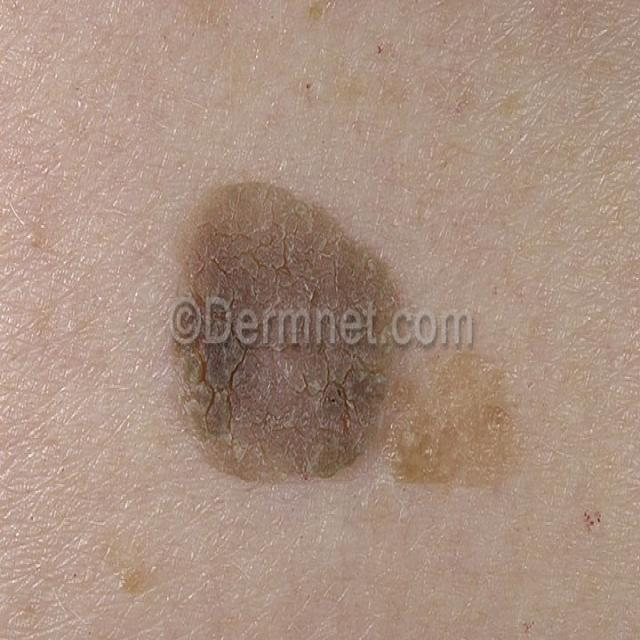Eczema: (176, 171, 514, 499)
